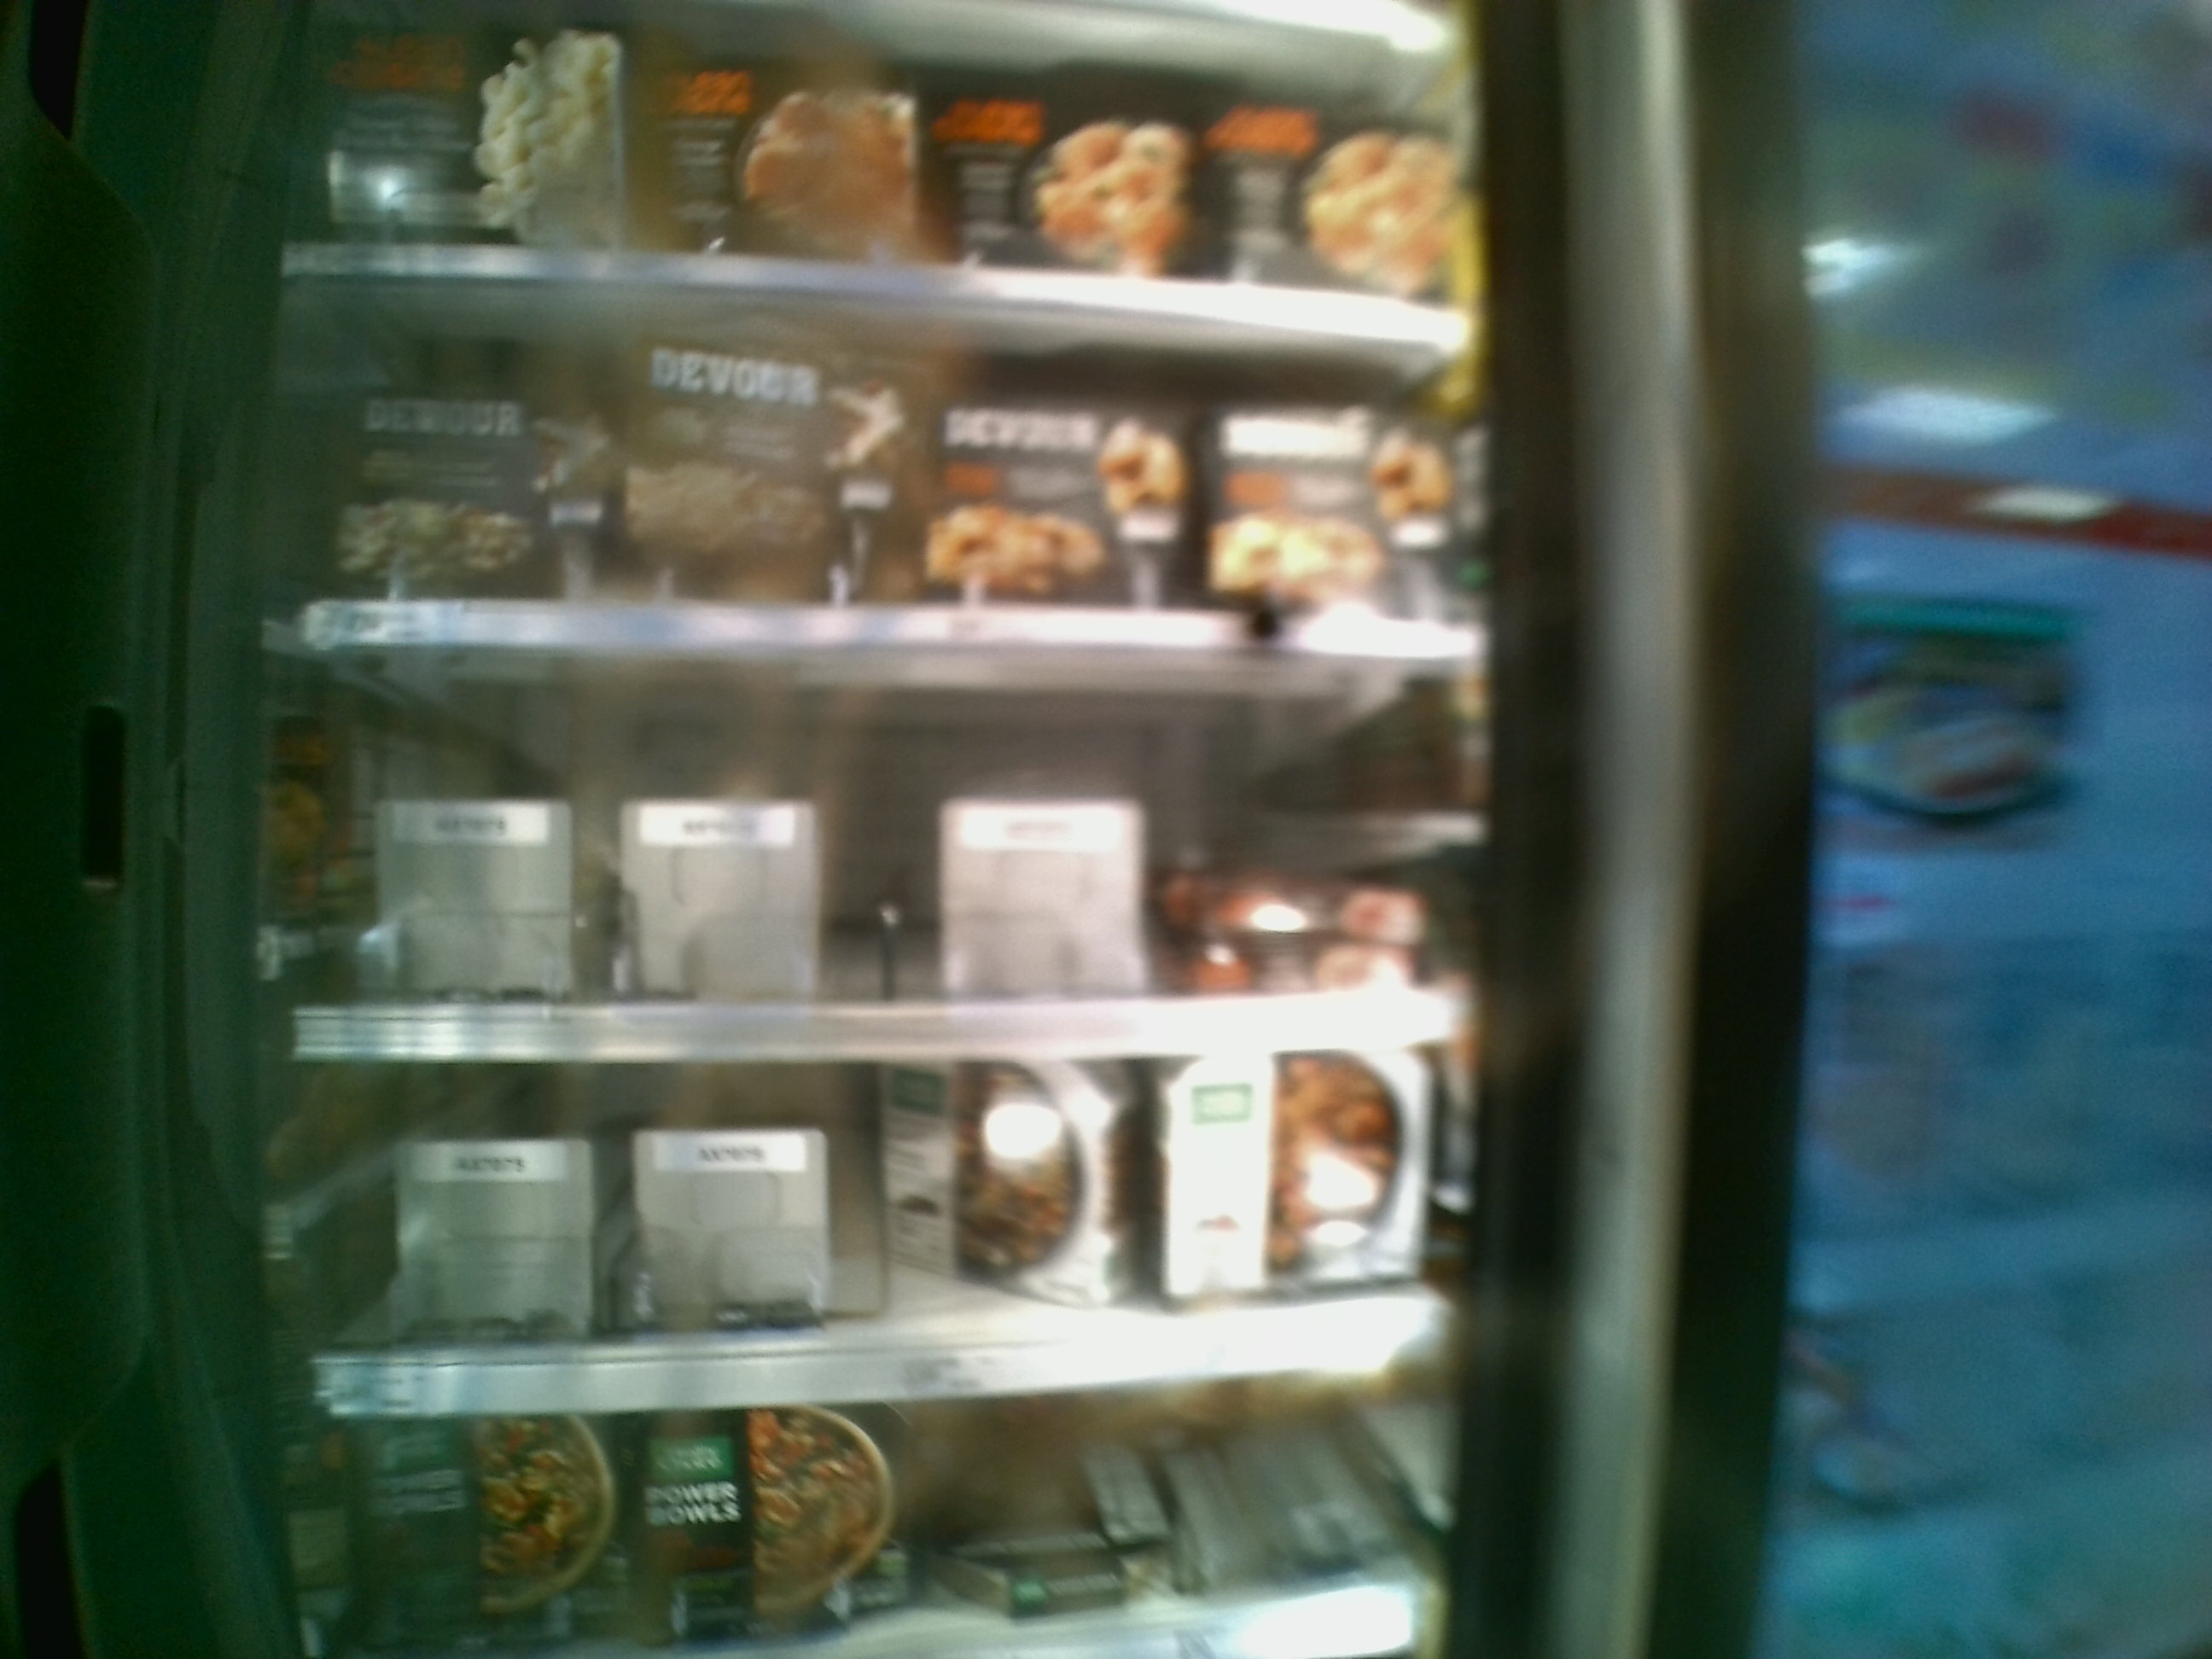shelf: (291, 636, 1468, 1054), (291, 1054, 1468, 1410)
